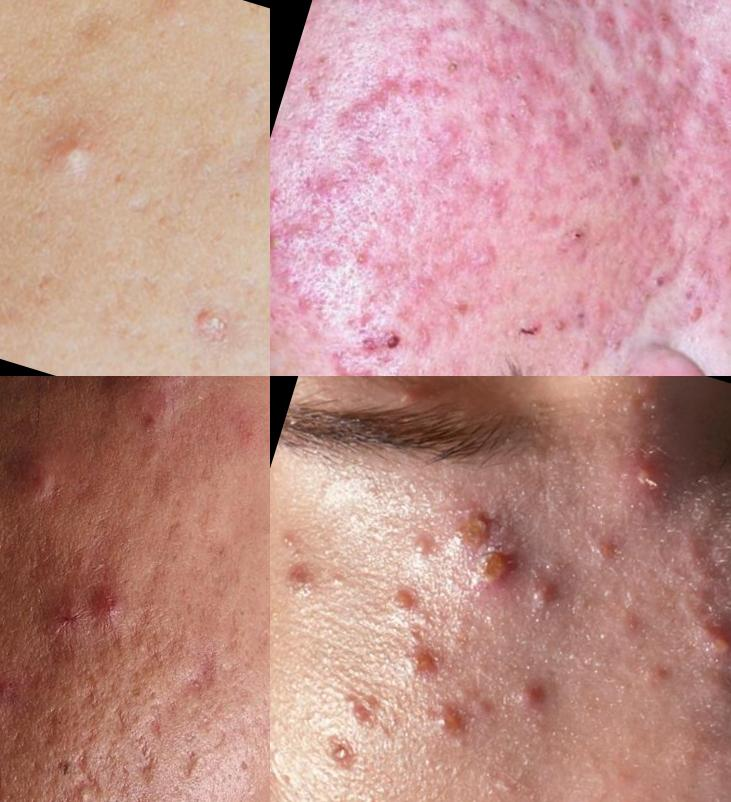acne_scars: (118, 705, 178, 789), (171, 635, 230, 706), (20, 697, 82, 760), (167, 731, 217, 791)
cystic: (79, 377, 228, 436), (1, 441, 70, 519), (453, 488, 513, 560), (90, 569, 145, 640), (466, 536, 524, 602)
papular: (1, 567, 119, 692), (541, 194, 620, 273), (342, 302, 421, 368), (458, 224, 515, 290), (695, 26, 731, 114), (630, 34, 683, 84), (705, 238, 731, 287)
purulent: (389, 636, 452, 696), (42, 120, 104, 176), (503, 661, 553, 721), (526, 549, 570, 617), (407, 699, 463, 751), (371, 576, 427, 623), (686, 608, 731, 666), (396, 526, 446, 572), (625, 452, 675, 491)
whitehead: (570, 519, 634, 577), (323, 674, 386, 725), (320, 534, 367, 600), (495, 84, 555, 134), (385, 56, 439, 108), (337, 219, 383, 277), (386, 377, 441, 419), (54, 767, 116, 802), (349, 769, 397, 802), (271, 212, 296, 266), (337, 1, 393, 19), (607, 785, 656, 802), (555, 788, 607, 802)
